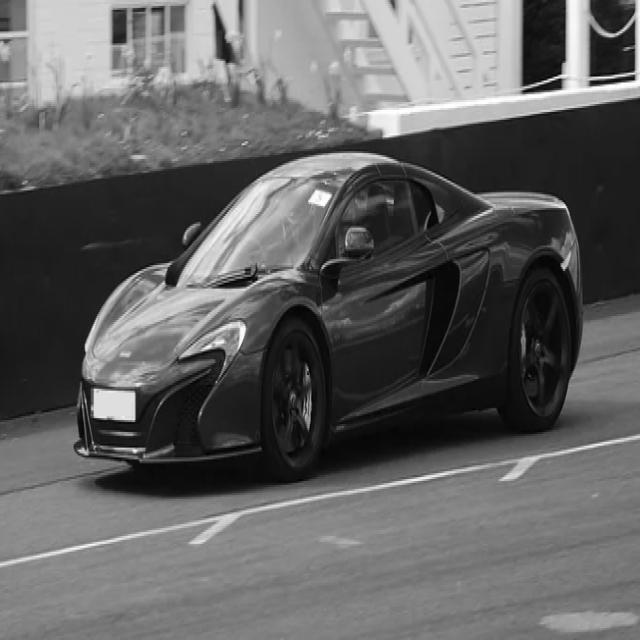LicensePlate: (90, 390, 135, 421)
